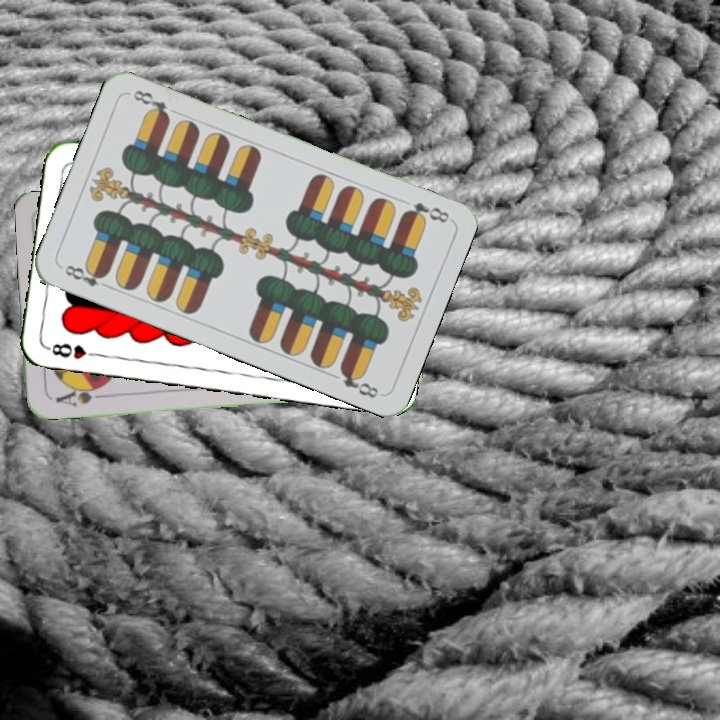E8: (60, 261, 114, 292), (399, 198, 452, 226)
H8: (43, 339, 102, 362)
SA: (52, 382, 107, 410)
